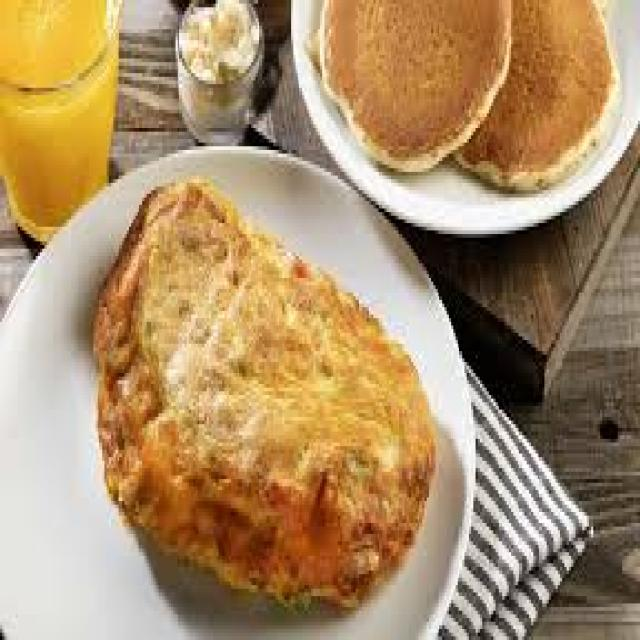Omelette: (87, 176, 433, 614)
Pancakes: (317, 1, 628, 178)
